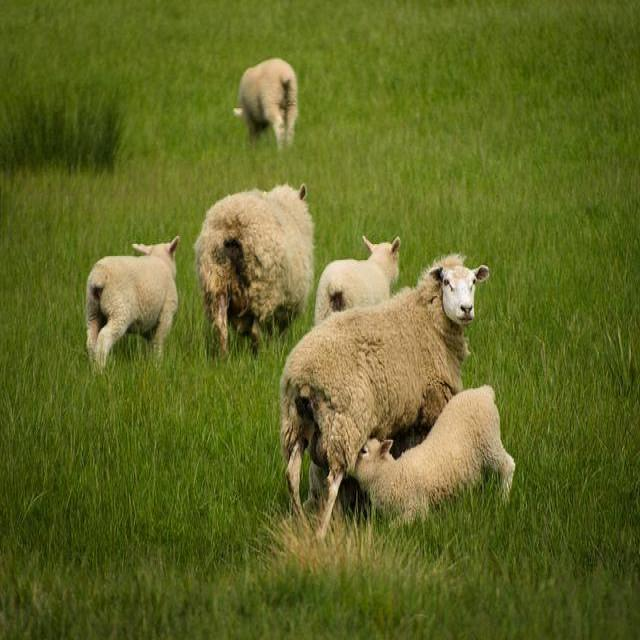Sheep: (277, 255, 490, 542), (357, 383, 517, 529), (195, 181, 318, 364), (85, 232, 183, 381), (316, 237, 402, 327), (233, 59, 299, 156)
